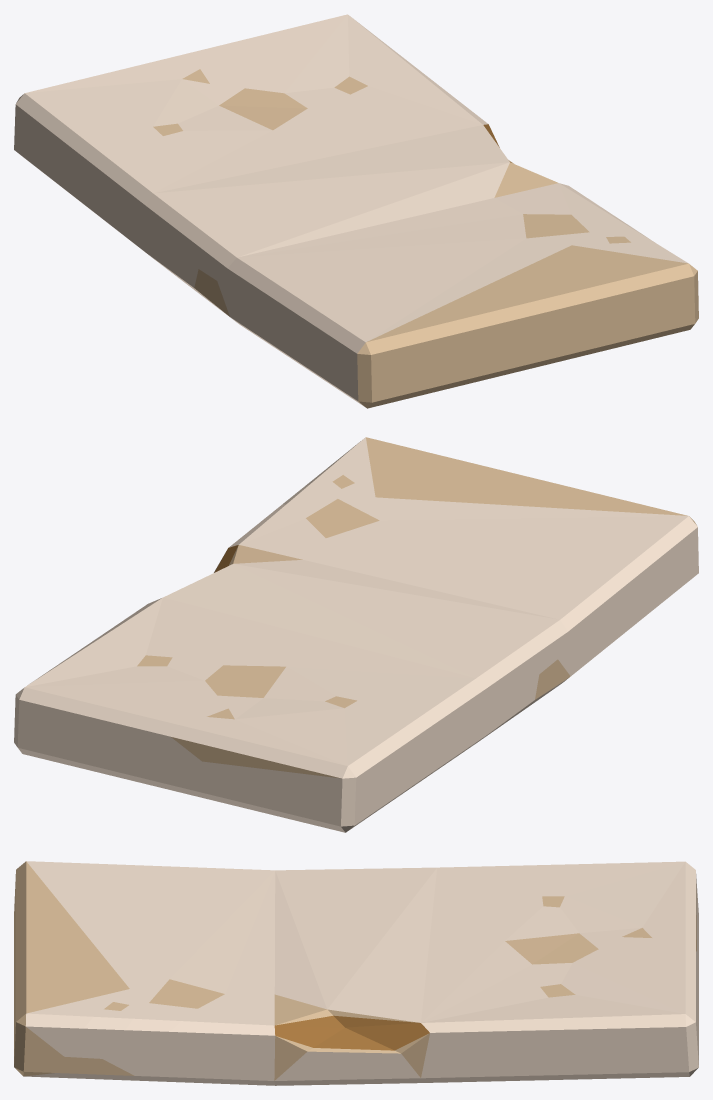
The model's file is apocalypse-mattress-small-dirt.glb.
3 views of the same model, one above another, from view 1: azimuth 30°, elevation 25°; view 2: azimuth 150°, elevation 25°; view 3: azimuth 270°, elevation 25° (orthographic). The views are drawn at different scales.
Visible parts, largest first — view 1: mattress-small-dirt; view 2: mattress-small-dirt; view 3: mattress-small-dirt.
Boxes of the visible parts, x1=… form: mattress-small-dirt: x1=14, y1=14, x2=698, y2=408; mattress-small-dirt: x1=14, y1=437, x2=698, y2=832; mattress-small-dirt: x1=14, y1=861, x2=698, y2=1085.
Bounding box in the file's own units: 1 × 0.2098 × 1.8.
